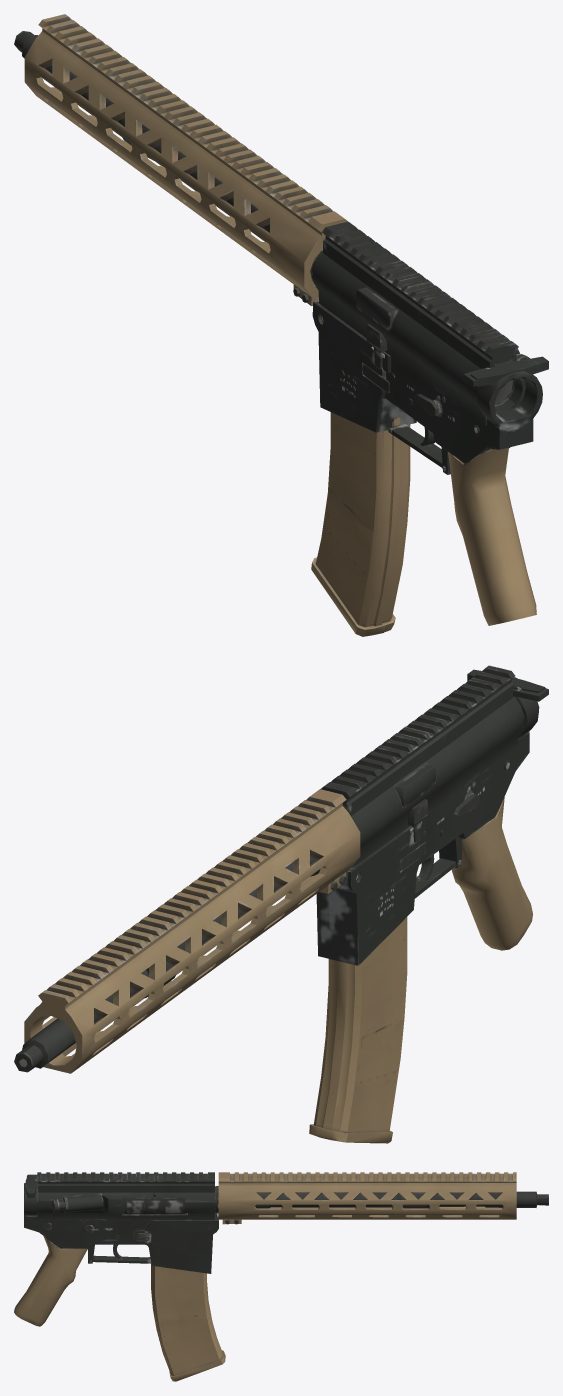
The model's file is fuzil_556_bicolor_leve.glb.
The picture shows the model from 3 angles, top to bottom: view 1: azimuth 30°, elevation 25°; view 2: azimuth 150°, elevation 25°; view 3: azimuth 270°, elevation 25°; orthographic projection. The views are drawn at different scales.
Parts seen in each view (by area): view 1: fuzil_556_bicolor_leve; view 2: fuzil_556_bicolor_leve; view 3: fuzil_556_bicolor_leve.
Boxes of the visible parts, x1=… form: fuzil_556_bicolor_leve: x1=14, y1=14, x2=548, y2=636; fuzil_556_bicolor_leve: x1=14, y1=665, x2=548, y2=1143; fuzil_556_bicolor_leve: x1=14, y1=1172, x2=548, y2=1381.
Bounding box in the file's own units: 0.058 × 0.2496 × 0.596.
Materials: 1 (1 with a texture image).
